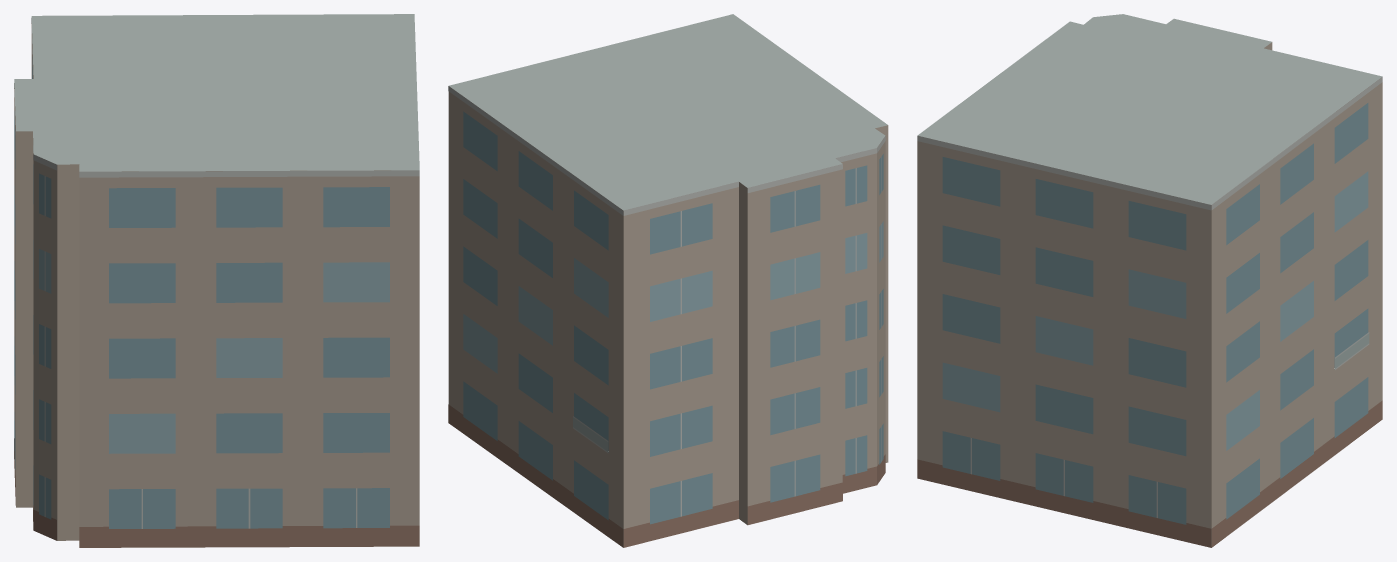
File: survey-upis-32697768.glb
The picture shows the model from 3 angles, left to right: view 1: azimuth 30°, elevation 25°; view 2: azimuth 150°, elevation 25°; view 3: azimuth 270°, elevation 25°; orthographic projection. The views are drawn at different scales.
Parts seen in each view (by area): view 1: survey-upis-32697768.tmp; view 2: survey-upis-32697768.tmp; view 3: survey-upis-32697768.tmp.
Part boxes in pixels (x1,y1,x2,y2): survey-upis-32697768.tmp: [14, 14, 419, 547]; survey-upis-32697768.tmp: [448, 14, 888, 547]; survey-upis-32697768.tmp: [917, 14, 1382, 547].
Size of the model in its own units: 18.23 by 15.25 by 18.77.
